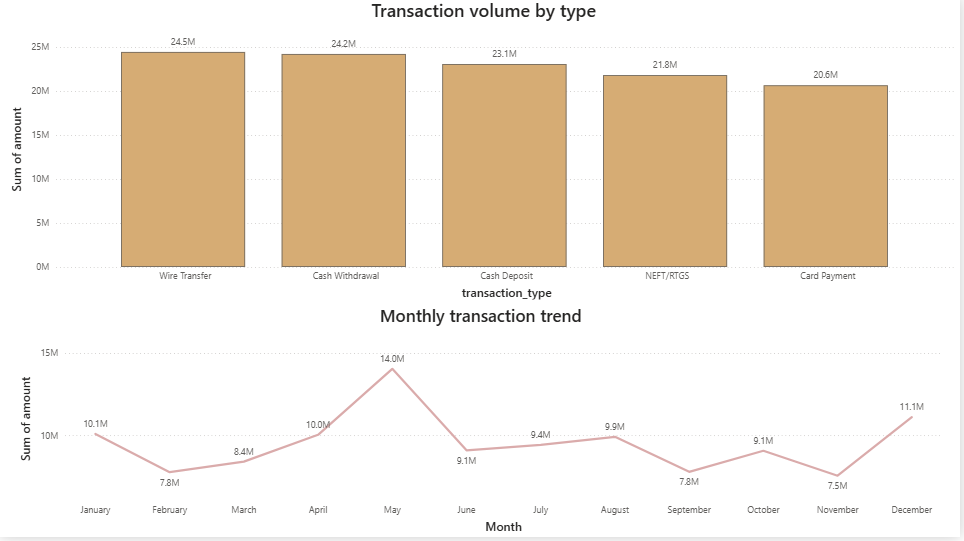

Layout of this report page (visuals, bound fields, positions):
{"tool":"powerbi","page":{"name":"Transaction Analysis","canvas":[1280,720],"ordinal":2},"visuals":[{"type":"clusteredColumnChart","title":"Transaction volume by type","fields":{"Category":["aml_monitoring transactions.transaction_type"],"Y":["Sum(aml_monitoring transactions.amount)"]},"box":[10,0,1270,408],"z":0},{"type":"lineChart","title":"Monthly transaction trend","fields":{"Category":["aml_monitoring transactions.transaction_date.Variation.Date Hierarchy.Month"],"Y":["Sum(aml_monitoring transactions.amount)"]},"box":[22,408,1238,312],"z":1000}]}

Visuals, with their boxes in screenshot pixels (x1, y1, x2, y2), scaled from the page's 1280x720 canvas onto the 964x541 screenshot:
"Transaction volume by type" clusteredColumnChart: x1=8 y1=0 x2=963 y2=307
"Monthly transaction trend" lineChart: x1=17 y1=307 x2=949 y2=540
